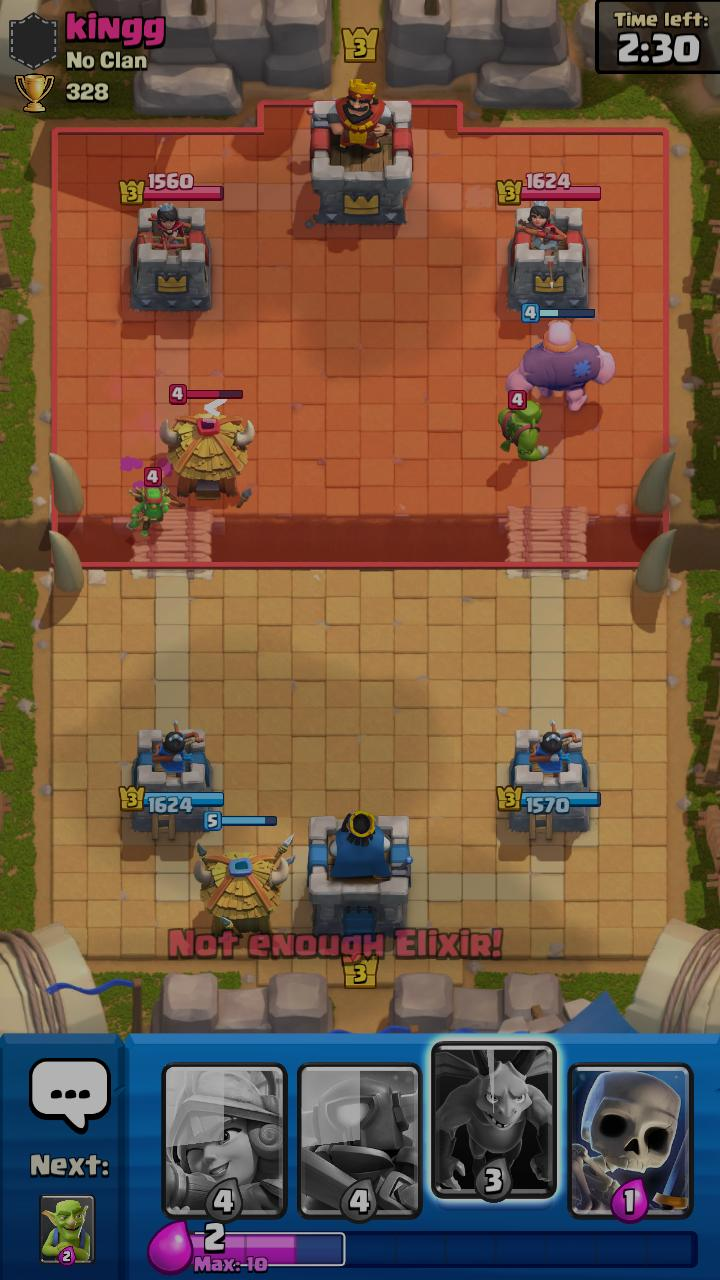ally: (193, 811, 295, 938), (506, 303, 616, 412)
enemy: (159, 384, 255, 508), (498, 390, 549, 462), (126, 467, 170, 536)
